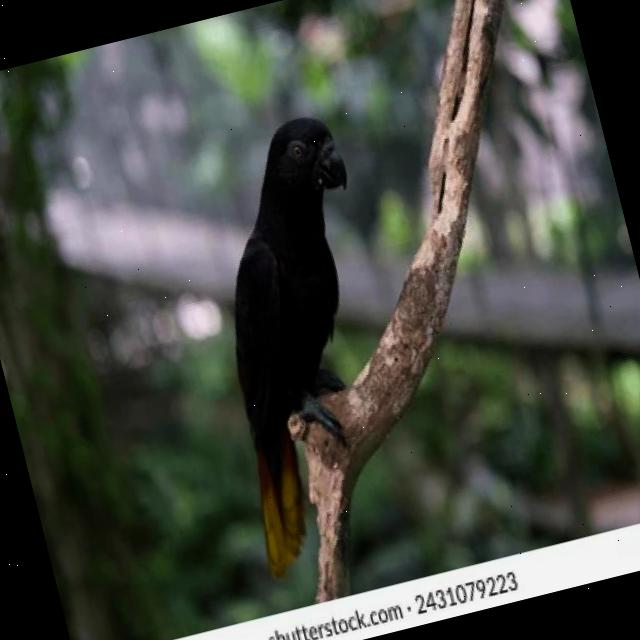Nuri Hitam: (154, 72, 456, 582)
